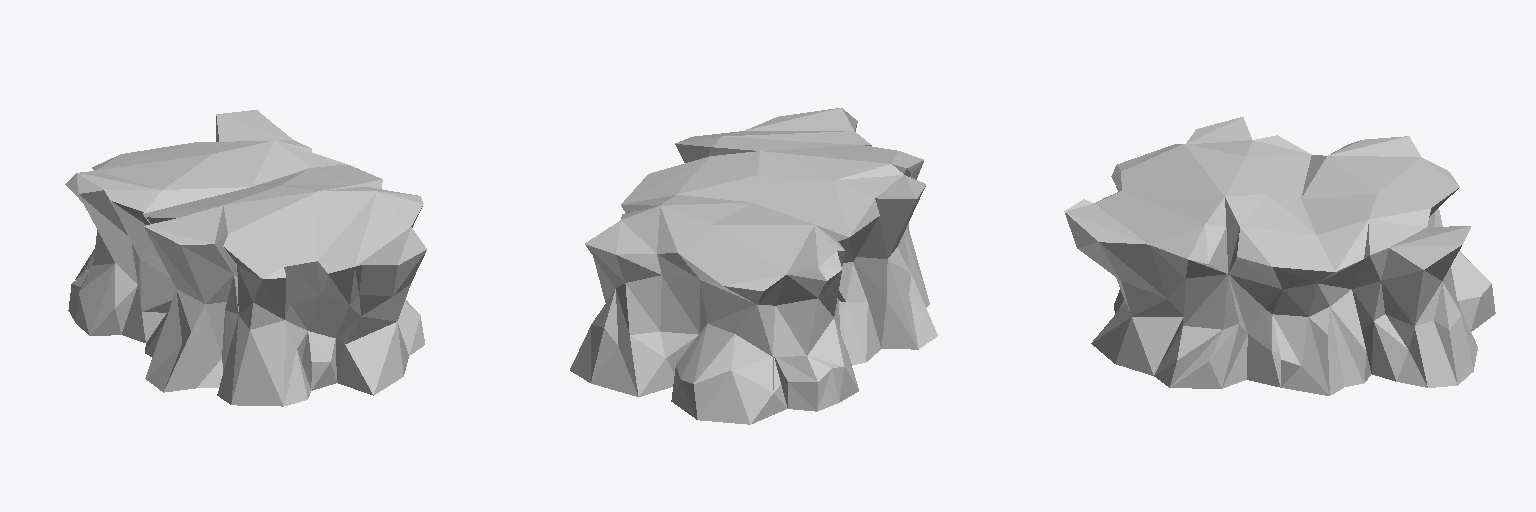
File: rock_003_LOD2.obj
3 views of the same model, side by side, from view 1: azimuth 30°, elevation 25°; view 2: azimuth 150°, elevation 25°; view 3: azimuth 270°, elevation 25° (orthographic).
Visible parts, largest first — view 1: rock_003_LOD2 rock_003; view 2: rock_003_LOD2 rock_003; view 3: rock_003_LOD2 rock_003.
Boxes of the visible parts, x1,y1,x2,y2 form: rock_003_LOD2 rock_003: [65, 110, 426, 406]; rock_003_LOD2 rock_003: [570, 108, 937, 424]; rock_003_LOD2 rock_003: [1064, 117, 1495, 395].
Bounding box in the file's own units: 1337 × 741 × 1900.